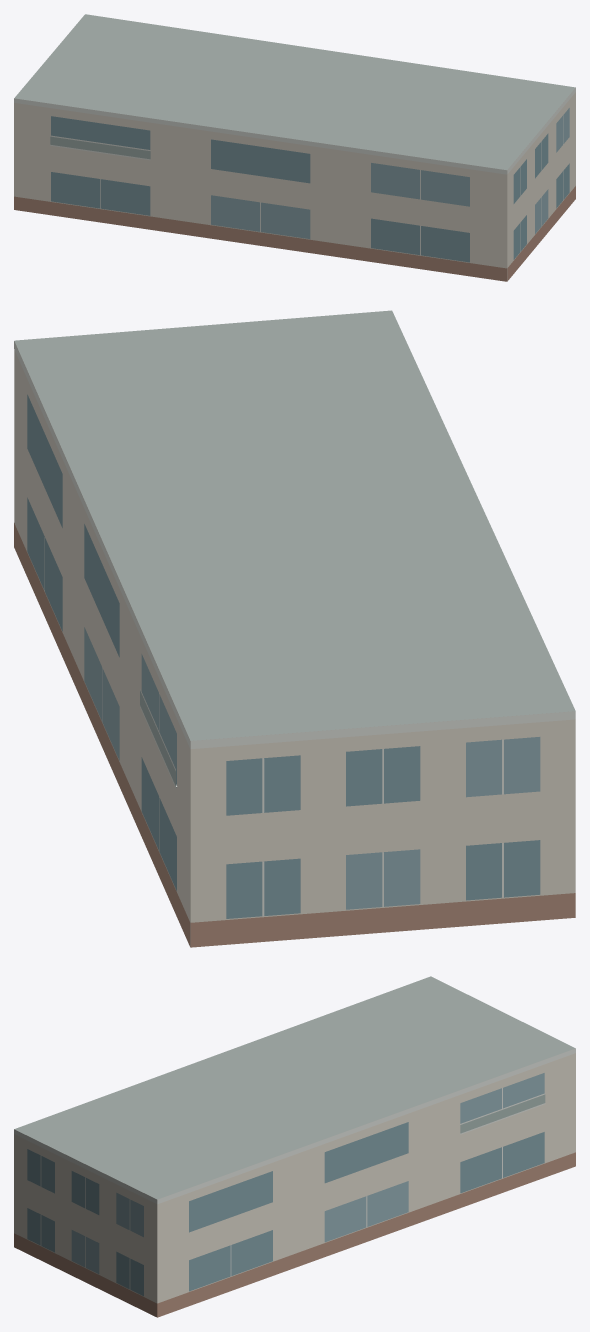
File: survey-upis-32523314.glb
3 views of the same model, one above another, from view 1: azimuth 30°, elevation 25°; view 2: azimuth 150°, elevation 25°; view 3: azimuth 270°, elevation 25° (orthographic). The views are drawn at different scales.
Visible parts, largest first — view 1: survey-upis-32523314.tmp; view 2: survey-upis-32523314.tmp; view 3: survey-upis-32523314.tmp.
Part boxes in pixels (left/top/right/bottom): survey-upis-32523314.tmp: left=14, top=14, right=575, bottom=281; survey-upis-32523314.tmp: left=14, top=310, right=575, bottom=947; survey-upis-32523314.tmp: left=14, top=976, right=575, bottom=1317.
Size of the model in its own units: 24.77 by 6.1 by 26.33.
